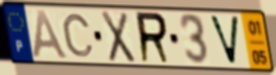3: (180, 12, 209, 67)
A: (31, 8, 71, 61)
C: (61, 13, 96, 59)
R: (134, 10, 173, 66)
V: (207, 14, 241, 68)
X: (99, 9, 137, 65)
